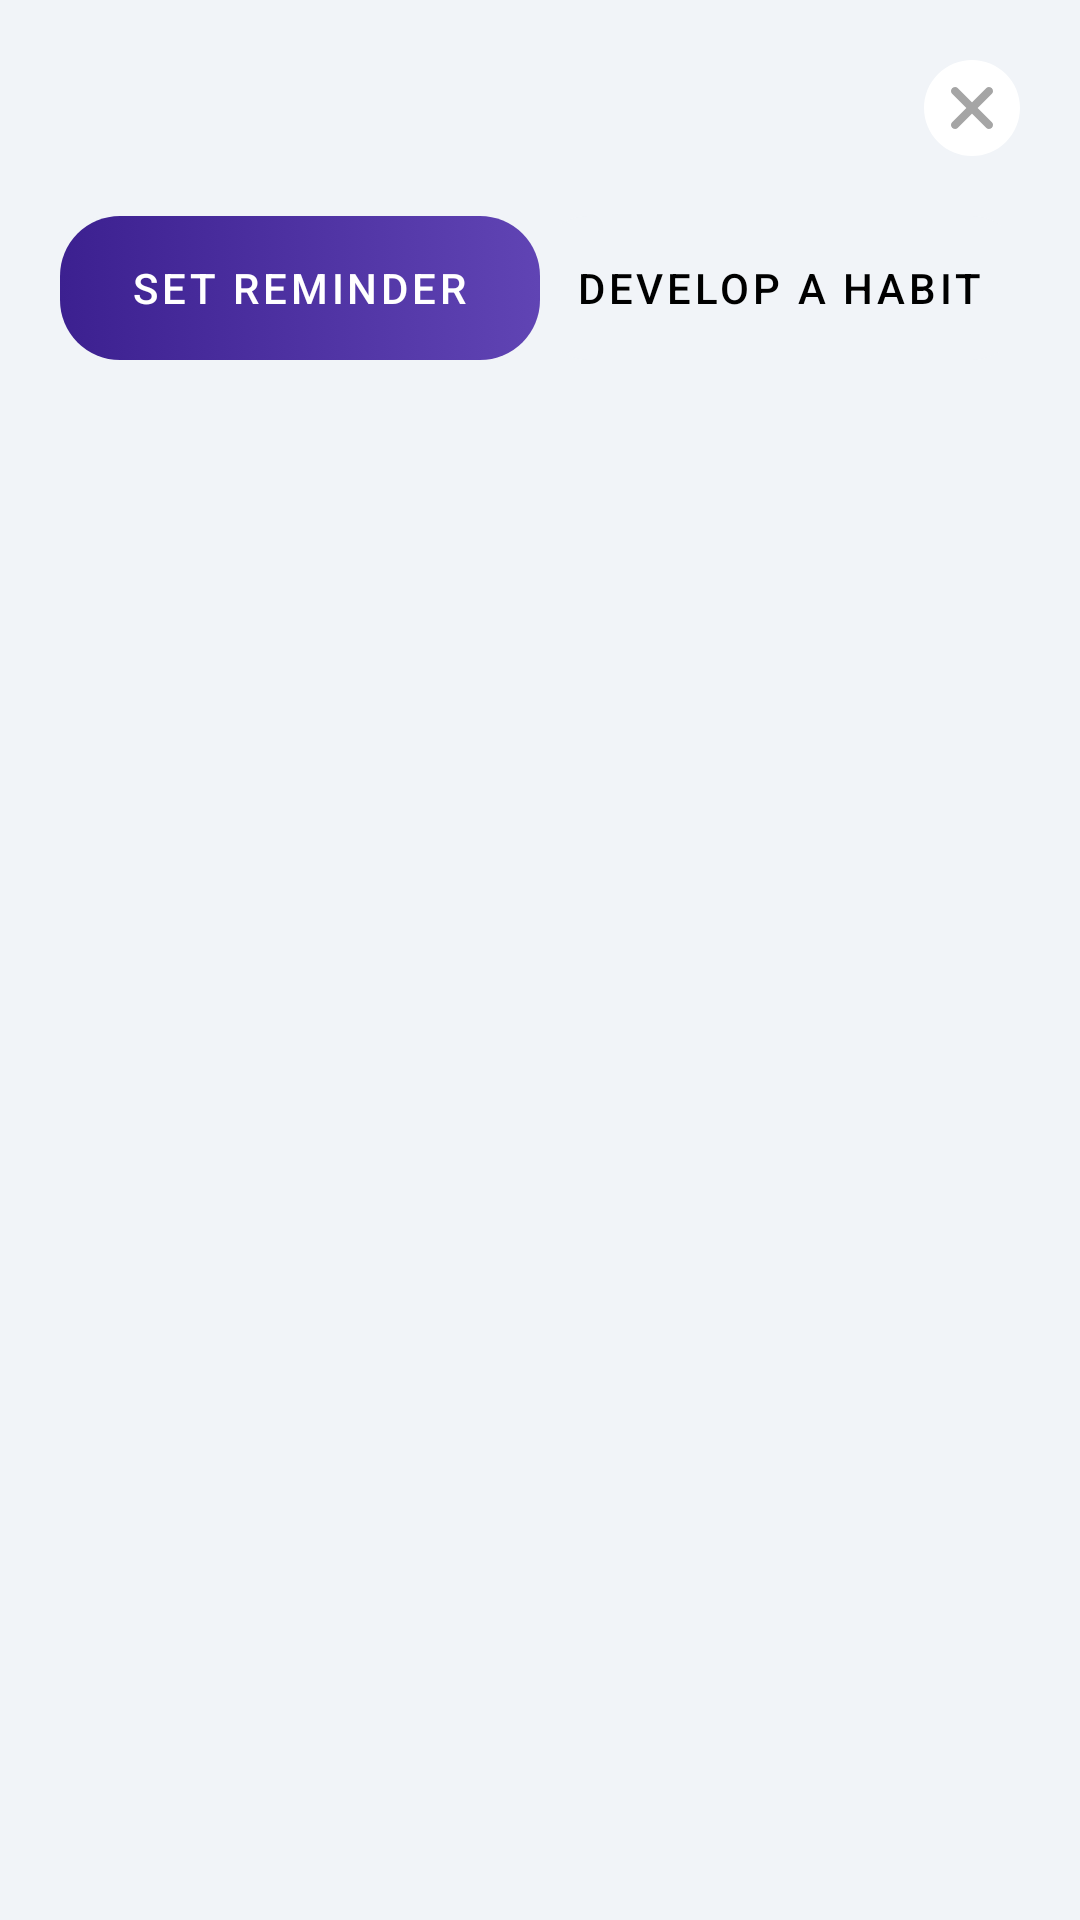

Locate icon controls on the screen. Image size 1080px x 1920px, boxes as bbox=[x1, y1, x2, y2].
cross: bbox=[924, 60, 1020, 156]
